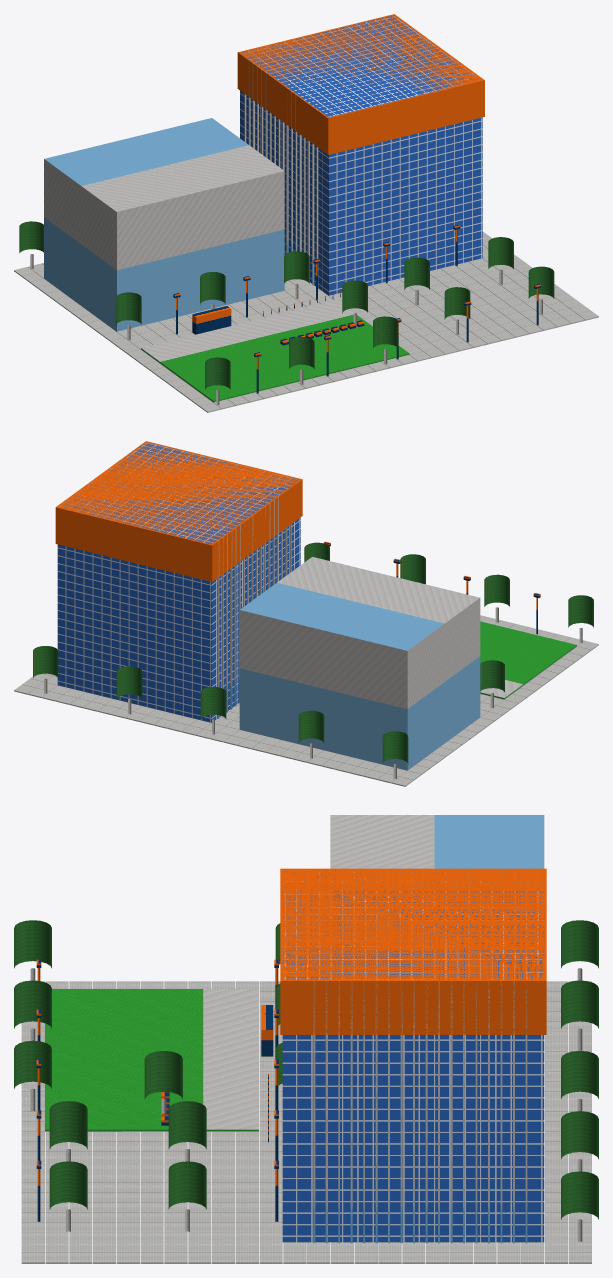
3 renders of one model, top to bottom at view 1: azimuth 30°, elevation 25°; view 2: azimuth 150°, elevation 25°; view 3: azimuth 270°, elevation 25°, orthographic. The views are drawn at different scales.
Visible parts, largest first — view 1: 28185_B27_JEI_Songdo_Bio_Campus; view 2: 28185_B27_JEI_Songdo_Bio_Campus; view 3: 28185_B27_JEI_Songdo_Bio_Campus.
Boxes of the visible parts, x1,y1,x2,y2 form: 28185_B27_JEI_Songdo_Bio_Campus: (14,14,598,412); 28185_B27_JEI_Songdo_Bio_Campus: (14,441,598,786); 28185_B27_JEI_Songdo_Bio_Campus: (14,815,598,1263).
Size of the model in its own units: 55.95 by 24.5 by 49.2.
1 material, 1 textured.
